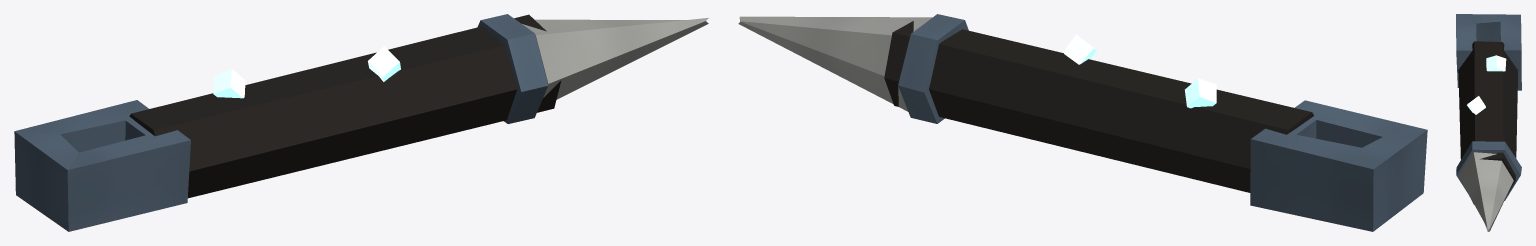
Rendered from needle_cosmic.glb.
The picture shows the model from 3 angles, left to right: view 1: azimuth 30°, elevation 25°; view 2: azimuth 150°, elevation 25°; view 3: azimuth 270°, elevation 25°; orthographic projection. The views are drawn at different scales.
Parts seen in each view (by area): view 1: NeedleCosmic; view 2: NeedleCosmic; view 3: NeedleCosmic.
Part boxes in pixels (box(x1,y1,x2,y2)): NeedleCosmic: box(14, 14, 708, 231); NeedleCosmic: box(738, 14, 1427, 231); NeedleCosmic: box(1456, 14, 1521, 231).
Bounding box in the file's own units: 0.3368 × 0.05 × 0.0477.
4 materials, 2 textured.
